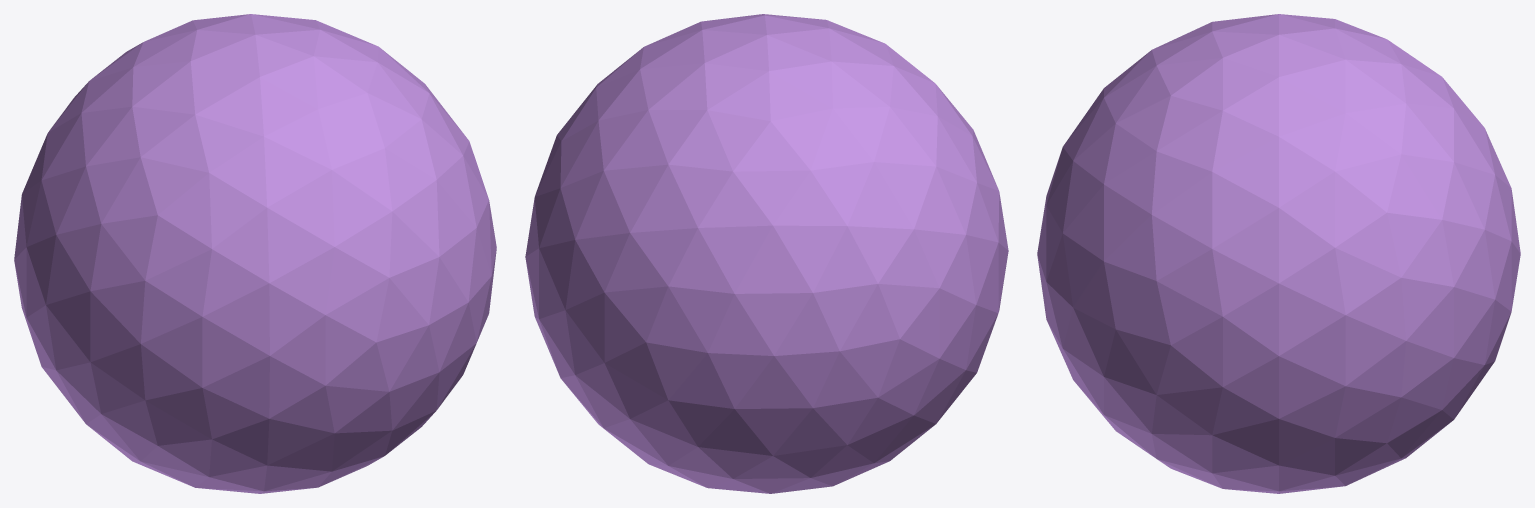
File: sodium.fbx
The picture shows the model from 3 angles, left to right: view 1: azimuth 30°, elevation 25°; view 2: azimuth 150°, elevation 25°; view 3: azimuth 270°, elevation 25°; orthographic projection.
Visible parts, largest first — view 1: Shape_IndexedFaceSet; view 2: Shape_IndexedFaceSet; view 3: Shape_IndexedFaceSet.
Boxes of the visible parts, <box> form: Shape_IndexedFaceSet: <box>14,14,496,493</box>; Shape_IndexedFaceSet: <box>525,14,1008,493</box>; Shape_IndexedFaceSet: <box>1037,14,1520,493</box>.
Bounding box in the file's own units: 1044 × 1044 × 1044.
